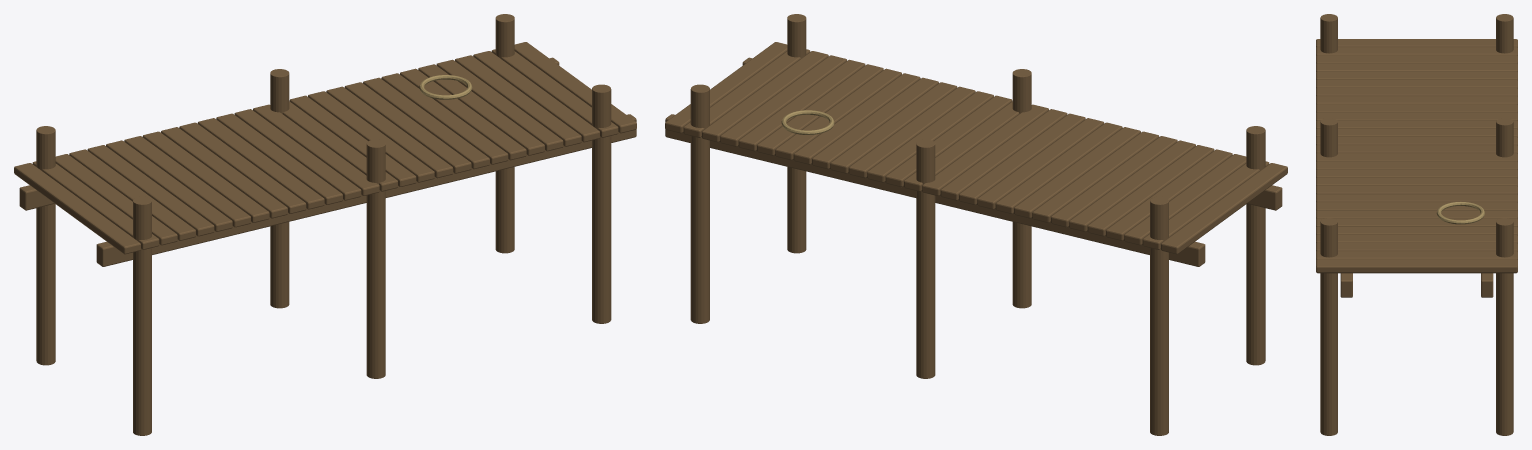
The model's file is RiverDock.fbx.
The picture shows the model from 3 angles, left to right: view 1: azimuth 30°, elevation 25°; view 2: azimuth 150°, elevation 25°; view 3: azimuth 270°, elevation 25°; orthographic projection. The views are drawn at different scales.
Parts seen in each view (by area): view 1: RiverDock; view 2: RiverDock; view 3: RiverDock.
Boxes of the visible parts, bbox=[...] form: RiverDock: bbox=[14, 14, 636, 435]; RiverDock: bbox=[665, 14, 1287, 435]; RiverDock: bbox=[1316, 14, 1517, 435].
Size of the model in its own units: 640 by 230 by 265.
